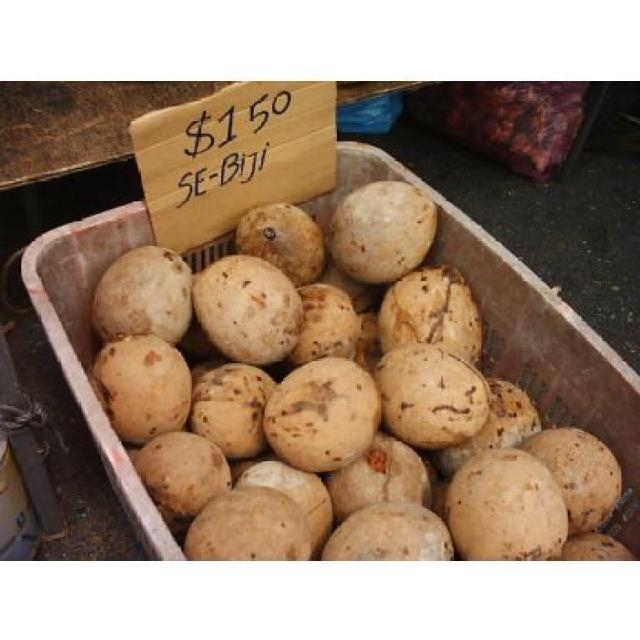Potato: (85, 179, 638, 559)
